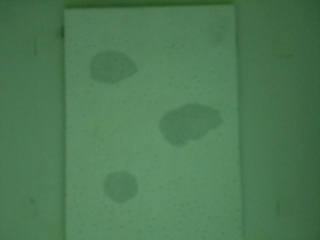Water_detected: (163, 100, 215, 140), (100, 51, 136, 86), (106, 172, 139, 195)
